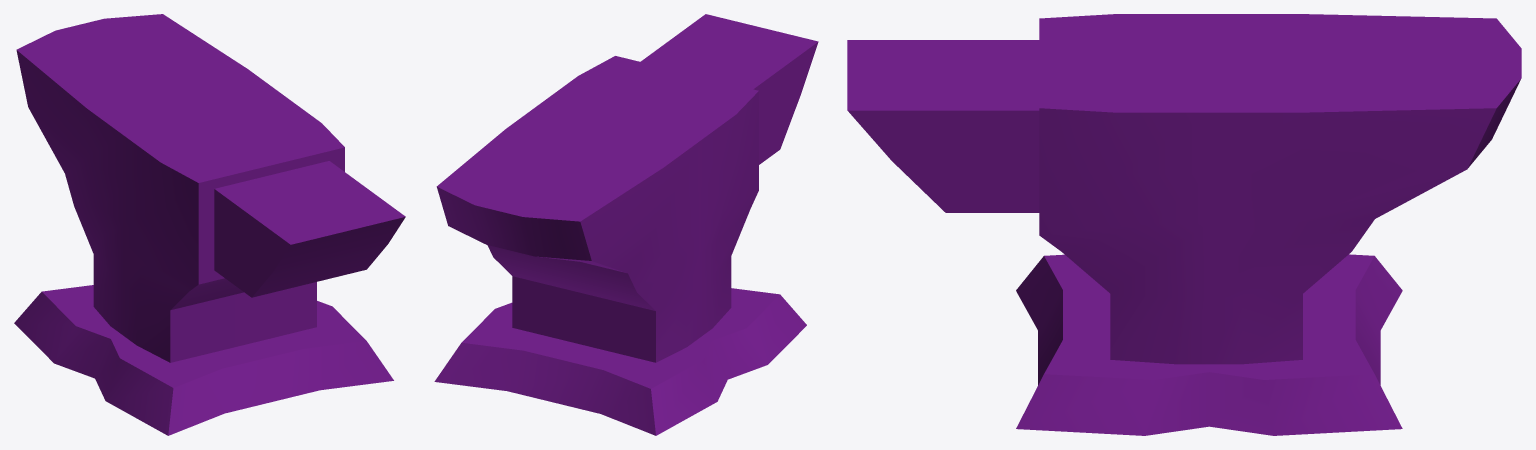
The model's file is Human_Anvil.fbx.
The picture shows the model from 3 angles, left to right: view 1: azimuth 30°, elevation 25°; view 2: azimuth 150°, elevation 25°; view 3: azimuth 270°, elevation 25°; orthographic projection. The views are drawn at different scales.
Visible parts, largest first — view 1: HumanAnvil; view 2: HumanAnvil; view 3: HumanAnvil.
Boxes of the visible parts, <box> form: HumanAnvil: <box>14,14,405,435</box>; HumanAnvil: <box>434,14,818,435</box>; HumanAnvil: <box>847,14,1521,435</box>.
Bounding box in the file's own units: 70.79 × 64.26 × 132.
